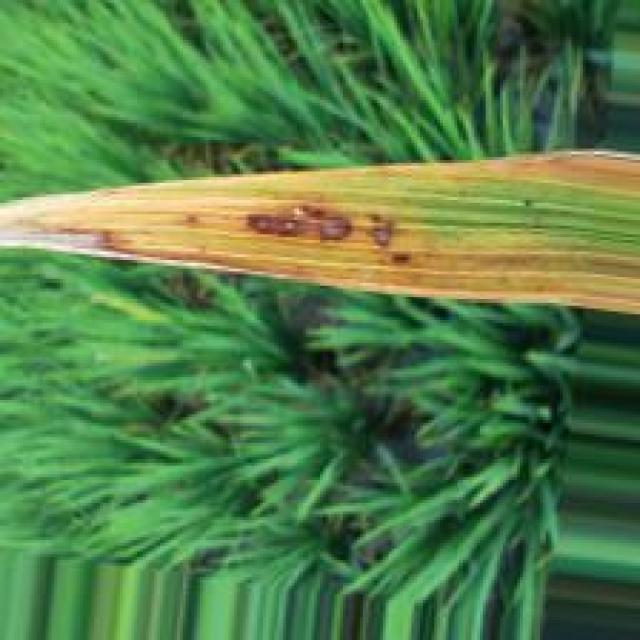Bacterial_Leaf_Blight: (4, 149, 640, 311)
